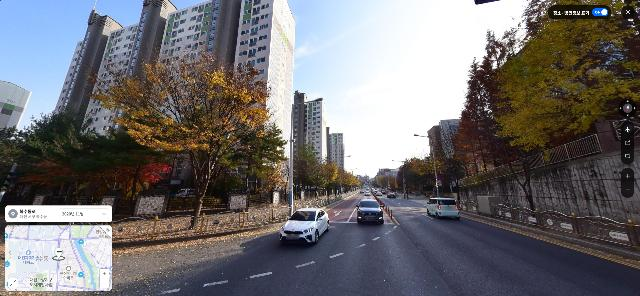ginkgo: (90, 48, 284, 231), (495, 0, 640, 154), (321, 159, 342, 198)
other: (456, 19, 550, 220), (0, 109, 154, 212), (427, 119, 487, 202), (115, 160, 173, 212), (292, 139, 323, 202)
